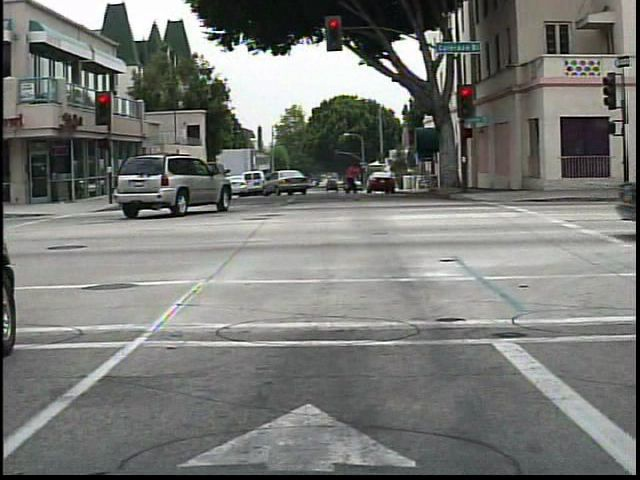person: (337, 156, 365, 202)
